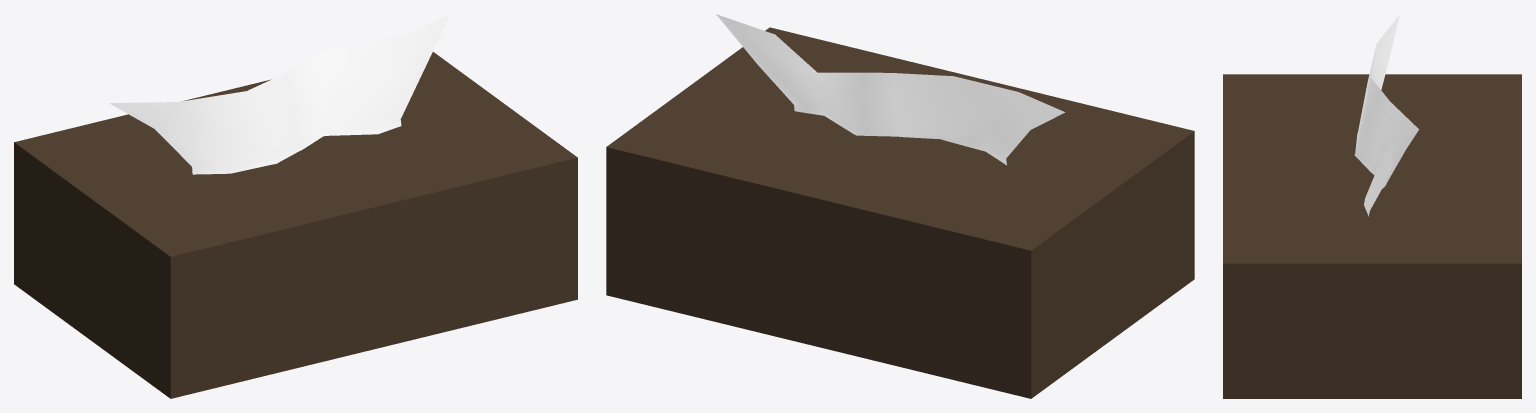
Rendered from TissuesBox.glb.
3 renders of one model, left to right at view 1: azimuth 30°, elevation 25°; view 2: azimuth 150°, elevation 25°; view 3: azimuth 270°, elevation 25°, orthographic. The views are drawn at different scales.
Visible parts, largest first — view 1: Cube, Box, Tissue; view 2: Cube, Box, Tissue; view 3: Cube, Box, Tissue.
Part boxes in pixels (<box>): Cube: <box>14,52,577,398</box>; Box: <box>15,158,574,395</box>; Tissue: <box>109,14,450,174</box>; Cube: <box>606,27,1194,398</box>; Box: <box>609,163,1028,395</box>; Tissue: <box>716,14,1065,165</box>; Cube: <box>1223,74,1521,398</box>; Box: <box>1226,277,1518,397</box>; Tissue: <box>1354,14,1418,216</box>.
Size of what is drawn, in the model's own units: 0.15 by 0.0808 by 0.1.
